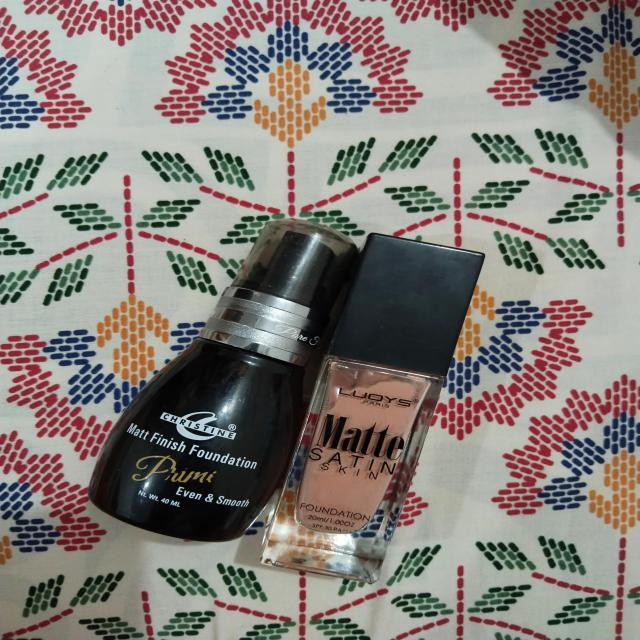concealer: (259, 228, 515, 587)
